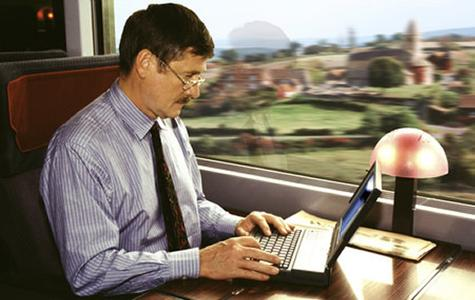person: (37, 3, 295, 299)
